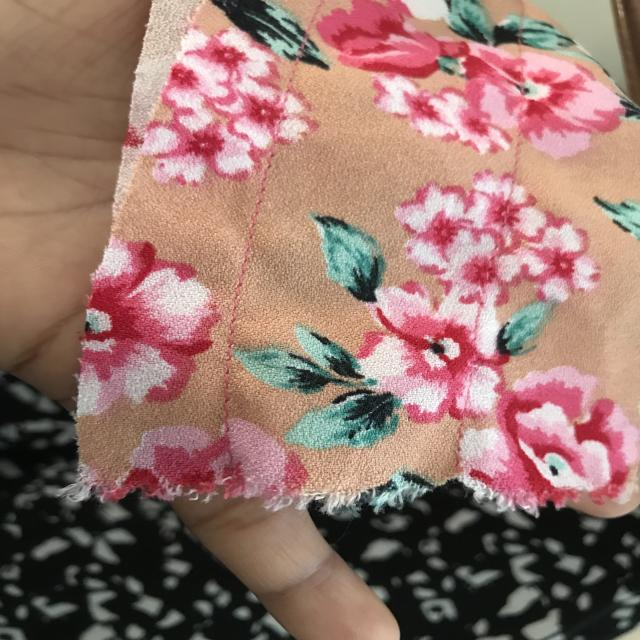good: (242, 180, 282, 251)
